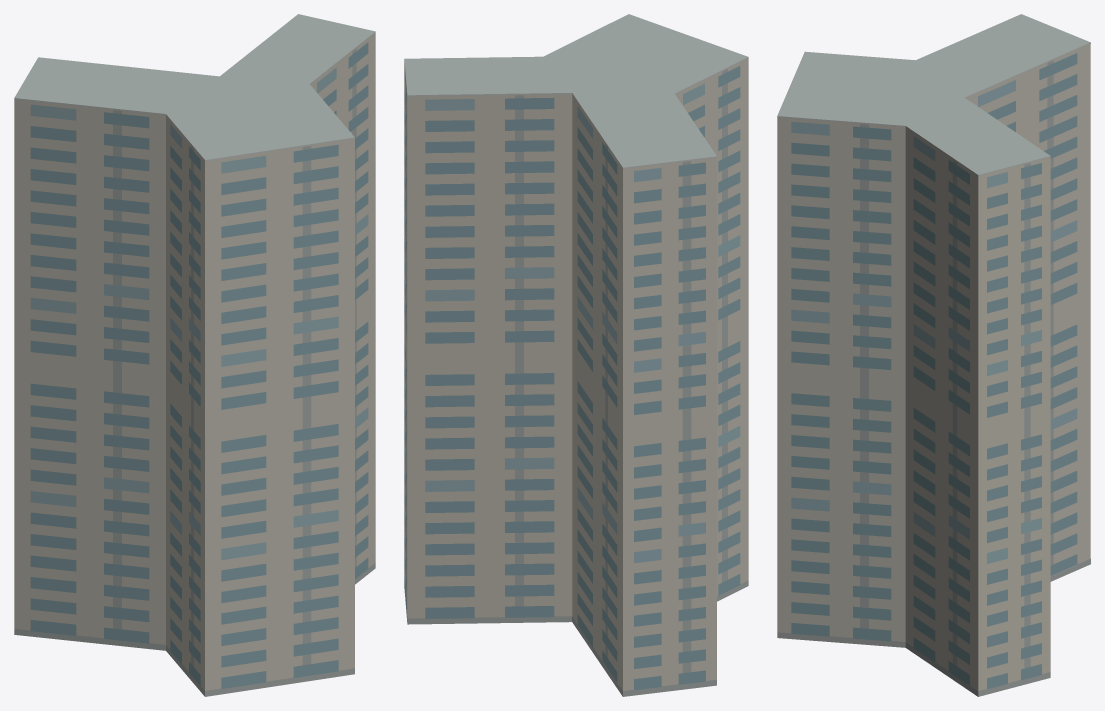
Rendered from residential-60928785-dca1-414a-bb2f-7953221e72c5.glb.
3 views of the same model, side by side, from view 1: azimuth 30°, elevation 25°; view 2: azimuth 150°, elevation 25°; view 3: azimuth 270°, elevation 25° (orthographic). The views are drawn at different scales.
Parts seen in each view (by area): view 1: residential-60928785-dca1-414a-bb2f-7953221e72c5.tmp; view 2: residential-60928785-dca1-414a-bb2f-7953221e72c5.tmp; view 3: residential-60928785-dca1-414a-bb2f-7953221e72c5.tmp.
Part boxes in pixels (x1,y1,x2,y2): residential-60928785-dca1-414a-bb2f-7953221e72c5.tmp: [14, 14, 375, 696]; residential-60928785-dca1-414a-bb2f-7953221e72c5.tmp: [404, 14, 748, 696]; residential-60928785-dca1-414a-bb2f-7953221e72c5.tmp: [777, 14, 1090, 696].
Size of the model in its own units: 50.45 by 76.25 by 41.53.
